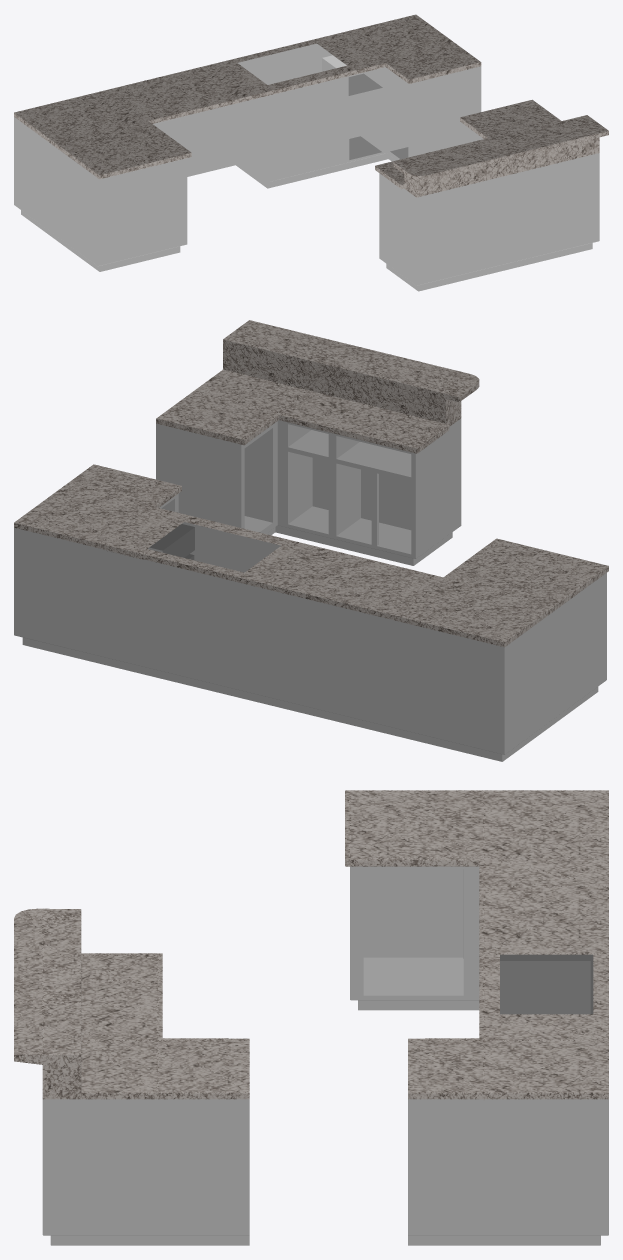
Rendered from StandardCounterHeightWidth_3abc351e.obj.
3 renders of one model, top to bottom at view 1: azimuth 30°, elevation 25°; view 2: azimuth 150°, elevation 25°; view 3: azimuth 270°, elevation 25°, orthographic. The views are drawn at different scales.
Parts seen in each view (by area): view 1: StandardCounterHeightWidth_3abc351e; view 2: StandardCounterHeightWidth_3abc351e; view 3: StandardCounterHeightWidth_3abc351e.
Part boxes in pixels (x1,y1,x2,y2): StandardCounterHeightWidth_3abc351e: (14,14,608,291); StandardCounterHeightWidth_3abc351e: (14,320,608,761); StandardCounterHeightWidth_3abc351e: (14,790,608,1245).
Size of the model in its own units: 3.73 by 1.12 by 3.1.
